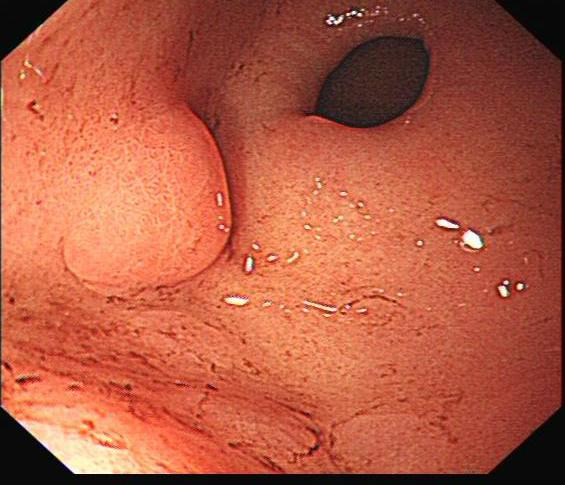Polyp: (72, 108, 242, 289)
